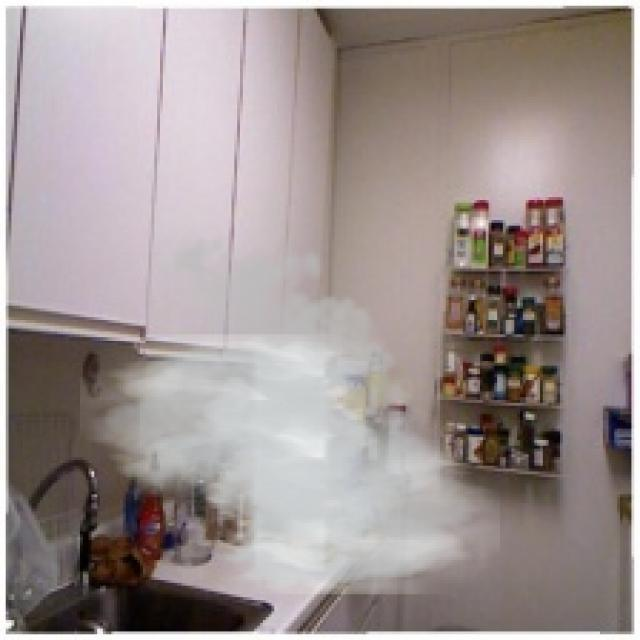Smoke: (80, 226, 500, 594)
